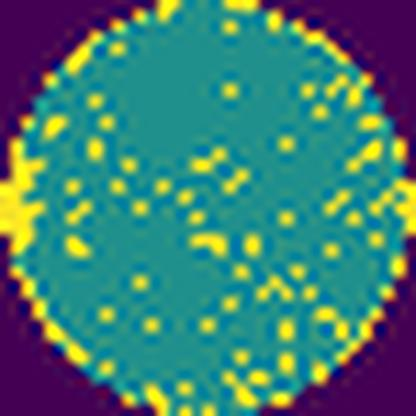Edge-Loc: (0, 267, 93, 363), (0, 134, 50, 262), (387, 173, 415, 240)
